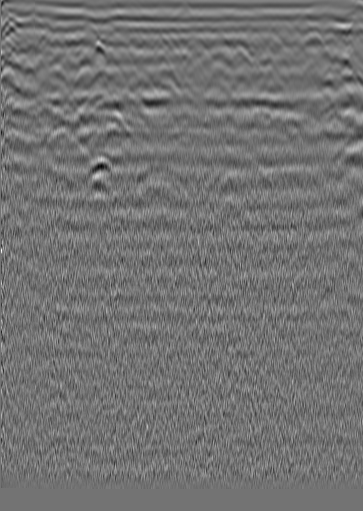가스: (83, 154, 118, 184)
상수: (303, 29, 323, 49)
오수: (35, 32, 55, 52)
우수: (189, 36, 209, 56)
